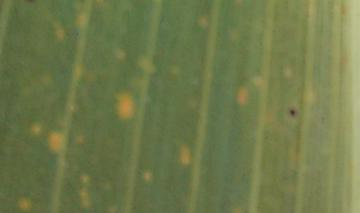tarspot: (288, 109, 297, 117)
